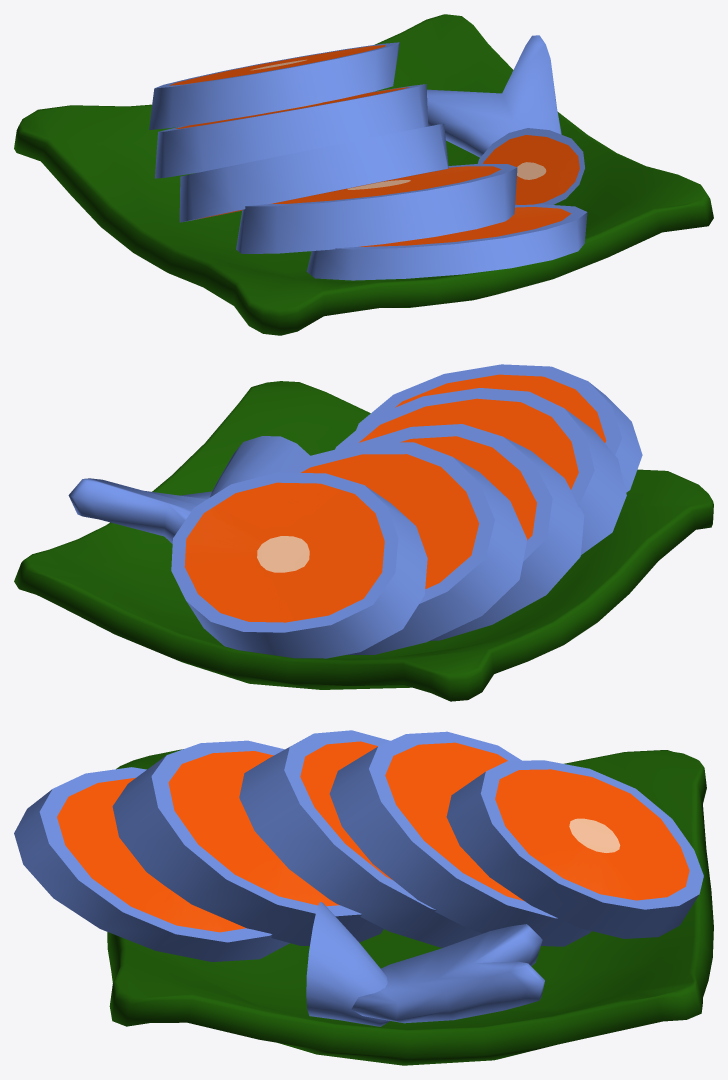
File: SM_Moss-Fish_Plate.fbx
3 views of the same model, one above another, from view 1: azimuth 30°, elevation 25°; view 2: azimuth 150°, elevation 25°; view 3: azimuth 270°, elevation 25° (orthographic). The views are drawn at different scales.
Parts seen in each view (by area): view 1: Moss-Fish_Plate; view 2: Moss-Fish_Plate; view 3: Moss-Fish_Plate.
Boxes of the visible parts, box(x1,y1,x2,y2) form: Moss-Fish_Plate: box(14, 14, 713, 335); Moss-Fish_Plate: box(14, 364, 713, 701); Moss-Fish_Plate: box(14, 730, 713, 1065).
Size of the model in its own units: 115 by 39.23 by 132.
